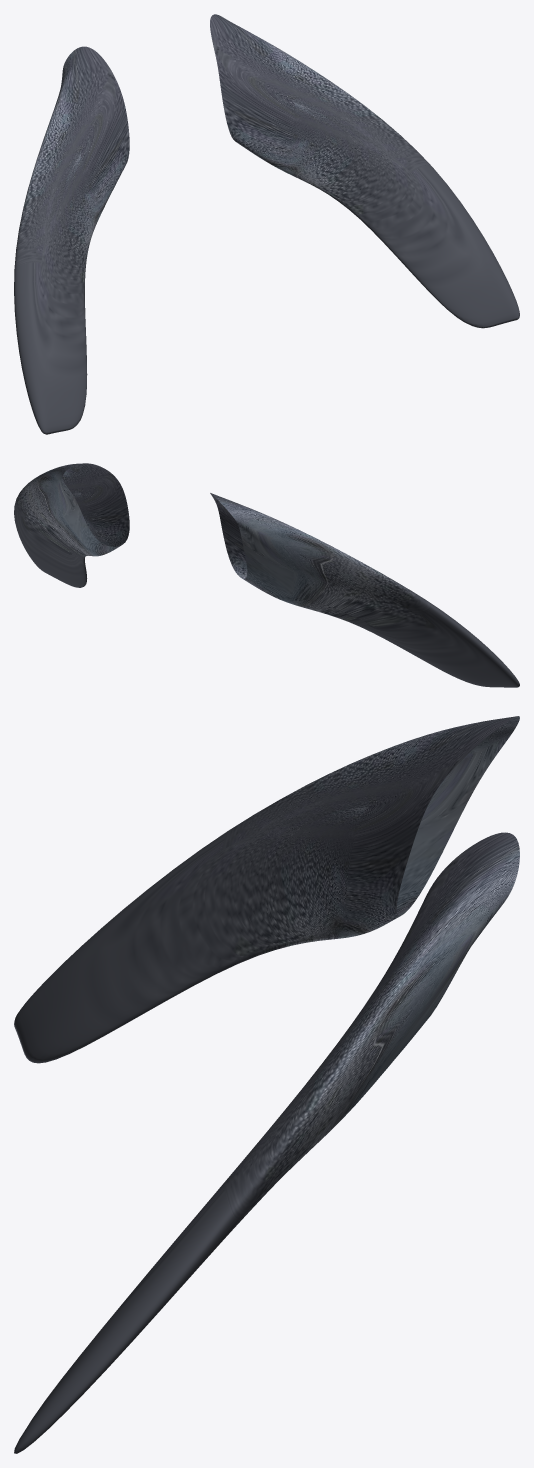
Rendered from PenguinWings.obj.
3 renders of one model, top to bottom at view 1: azimuth 30°, elevation 25°; view 2: azimuth 150°, elevation 25°; view 3: azimuth 270°, elevation 25°, orthographic. The views are drawn at different scales.
Visible parts, largest first — view 1: Wings_Wings; view 2: Wings_Wings; view 3: Wings_Wings.
Boxes of the visible parts, <box> form: Wings_Wings: <box>14,14,519,434</box>; Wings_Wings: <box>14,463,519,687</box>; Wings_Wings: <box>14,716,519,1453</box>.
Size of the model in its own units: 3.59 by 1.8 by 1.76.
